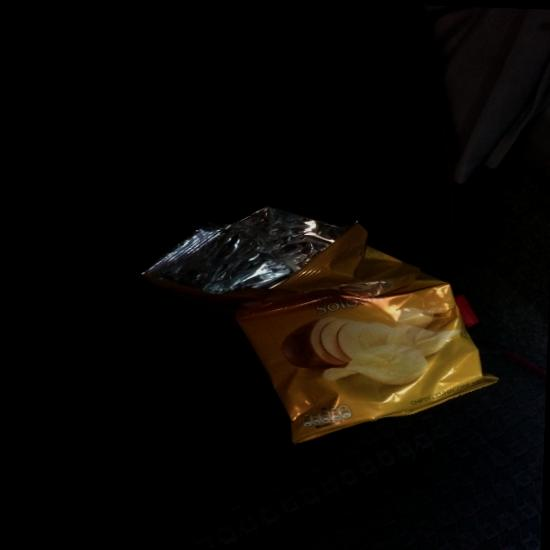Crisp packet: (139, 205, 499, 445)
